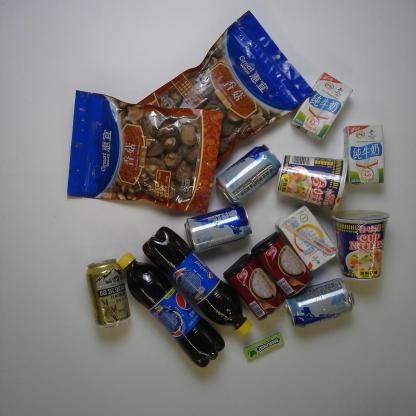Alcohol: (215, 143, 280, 208), (286, 276, 356, 329), (86, 257, 132, 328), (185, 206, 254, 253)
Canned Food: (220, 249, 286, 324), (250, 232, 313, 299)
Dried Food: (131, 10, 316, 168), (65, 88, 224, 214)
Drink: (115, 251, 224, 368), (143, 225, 253, 338)
Gum: (241, 331, 284, 362)
Instant Noodles: (330, 206, 391, 282), (276, 152, 349, 213)
Milk: (275, 204, 340, 274), (294, 70, 352, 141), (342, 119, 388, 186)
